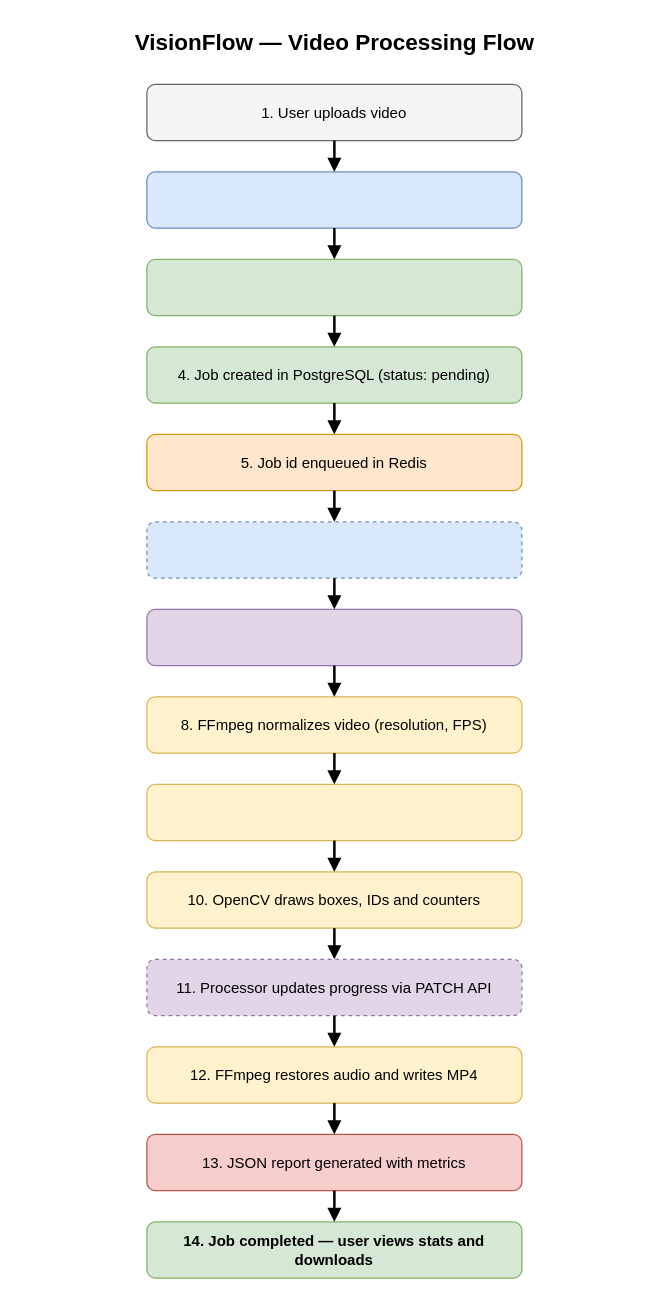
Image size: 668x1300. Some labels were removed from this diagram. The shapes that lost their labels are listed below. From the top down, each one's centre as x and y in pixels, then its label:
At pixel 334 199: "2. Next.js sends POST /api/videos".
At pixel 334 287: "3. API validates format and size (max 100MB)".
At pixel 334 549: "6. Web polls GET /api/videos/:id every 2s".
At pixel 334 637: "7. Python processor dequeues job".
At pixel 334 812: "9. YOLO detects and tracks people per frame".
